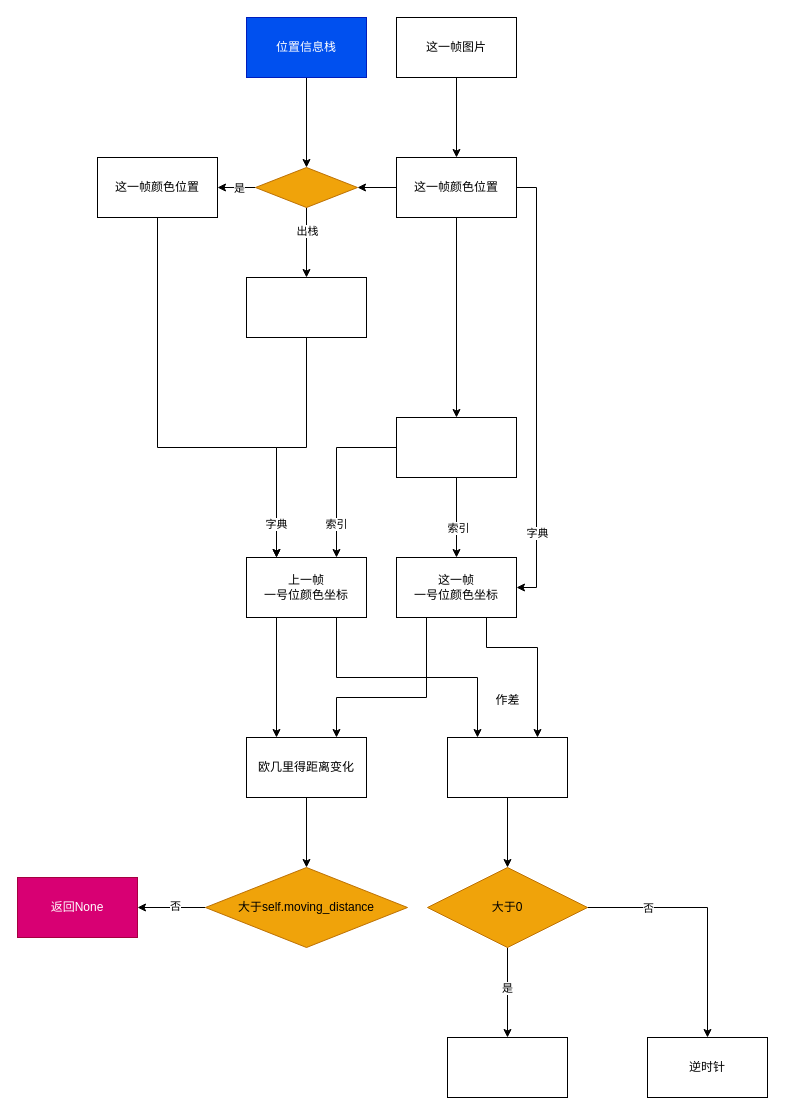
This 785x1115 diagram has some shape labels left out. Here are the shapes that lost their labels. From the top down, the centre of each, then its label:
At (306,187): "栈空".
At (306,307): "上一帧颜色位置".
At (456,447): "这 一帧 一号位颜色 （位置索引）".
At (507,767): "坐标x的变化".
At (507,1067): "顺时针".
